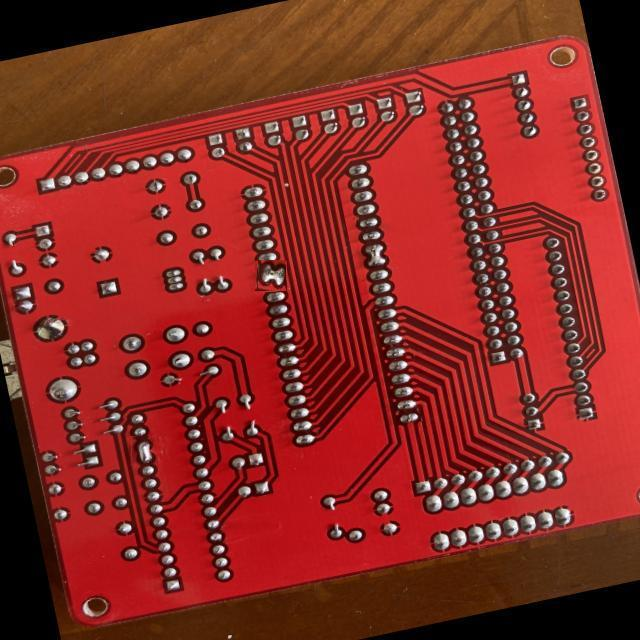damged: (360, 238, 392, 270), (256, 261, 287, 292), (131, 436, 158, 465)
